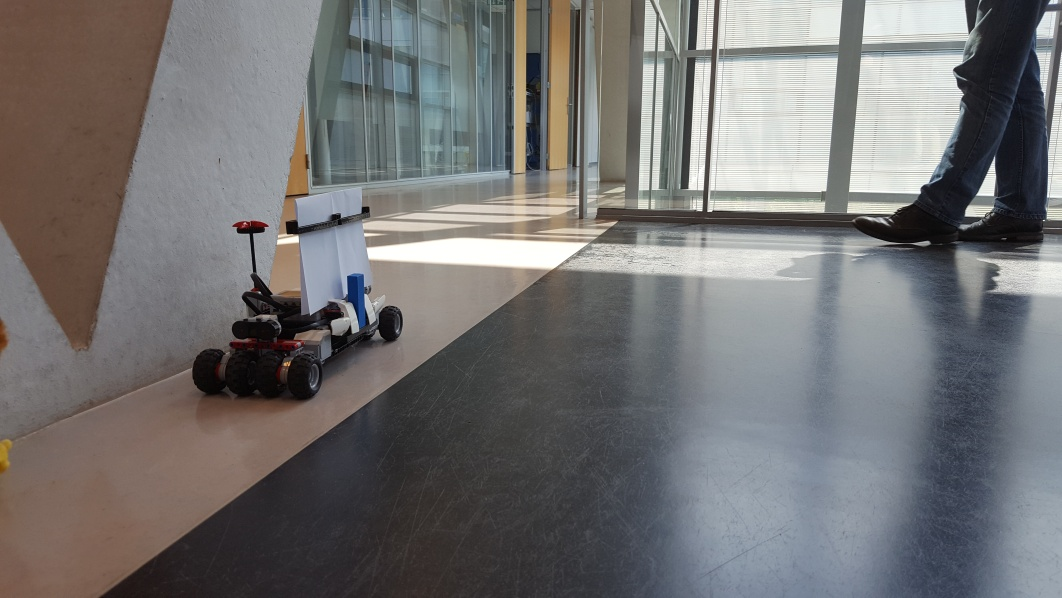beam: (346, 272, 370, 332)
